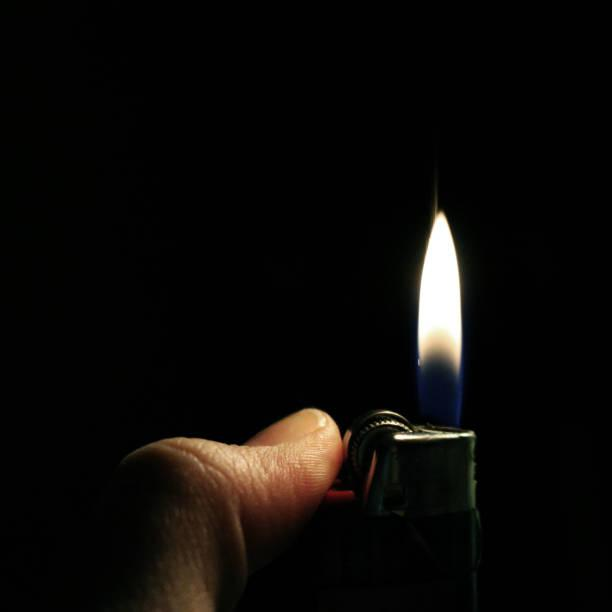Fire: (414, 209, 465, 432)
